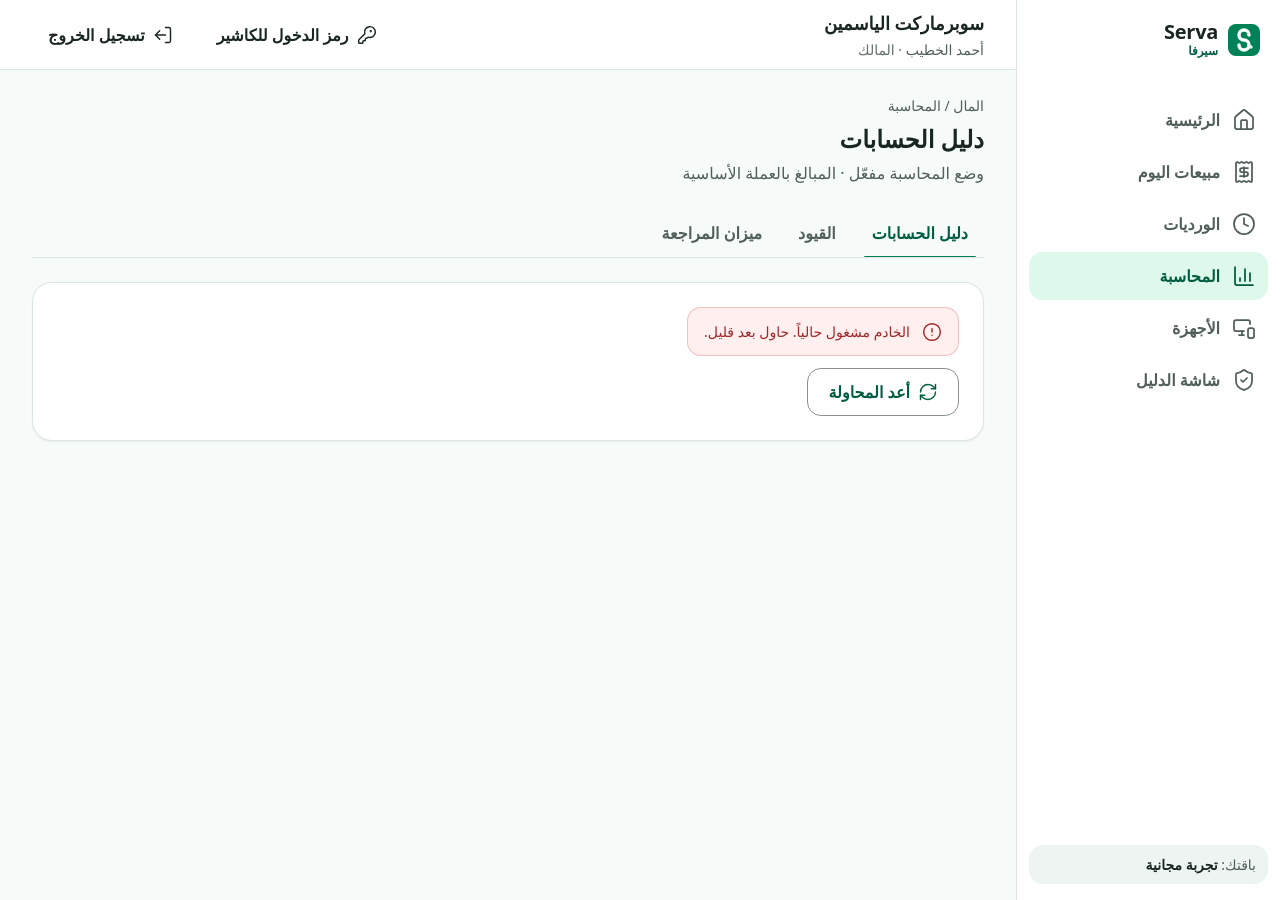
it: «دليل الحسابات» › shows a failed load with a retry
The width and height of the screenshot is (1280, 900).
Check: the text "الخادم مشغول حالياً. حاول بعد قليل." is shown, box [704, 320, 910, 343]
Click the button "أعد المحاولة".
click(883, 392)  # box [808, 368, 959, 416]
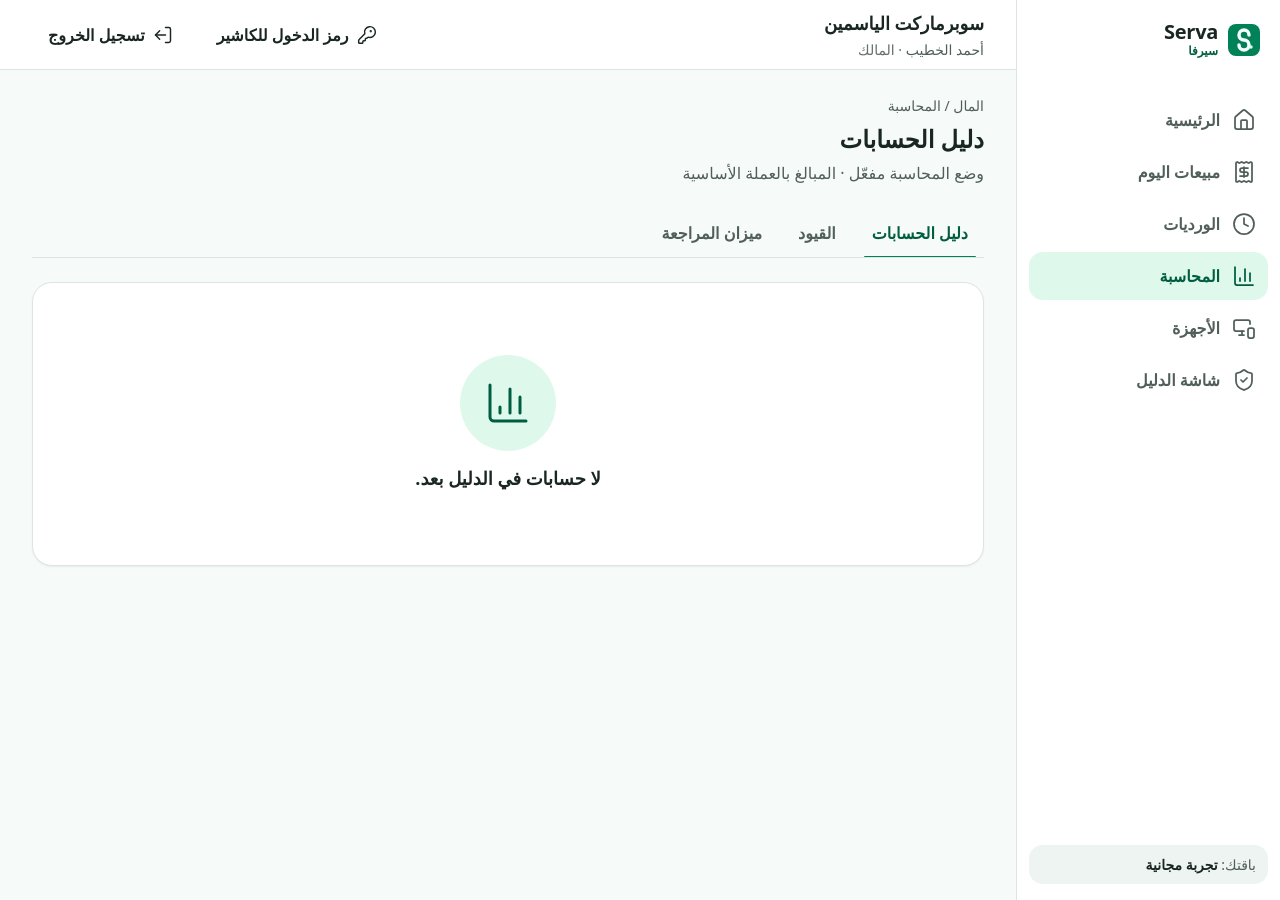
Check: the text "لا حسابات في الدليل بعد." is shown, box [415, 463, 601, 493]
